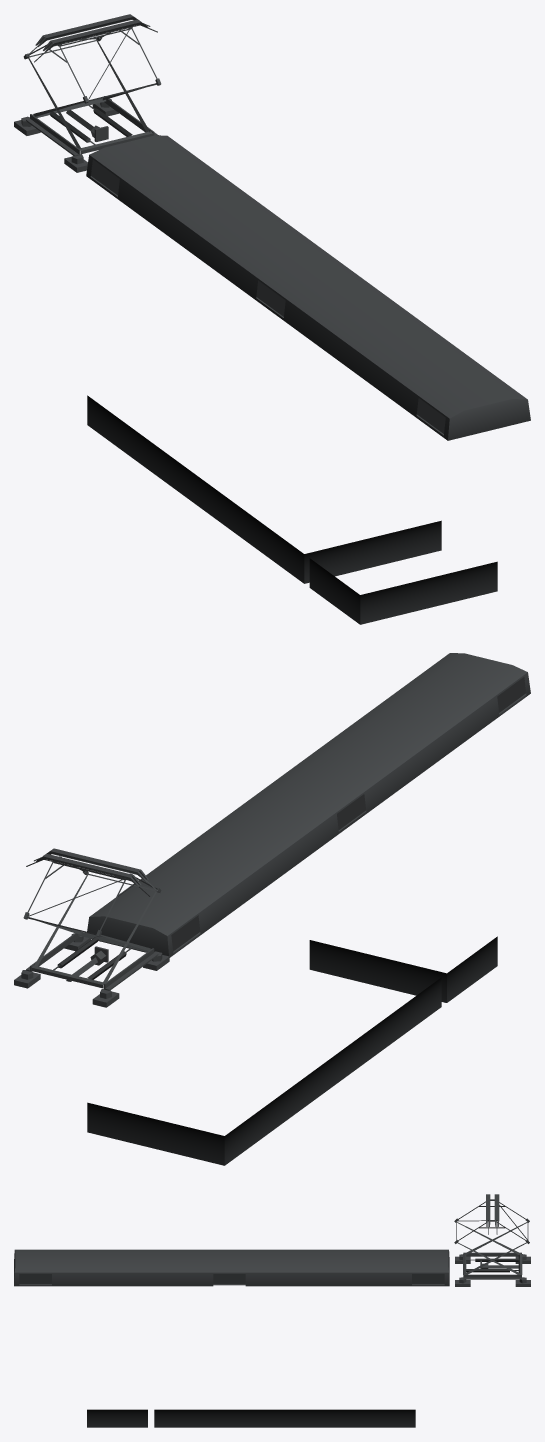
The model's file is UV_PANTA01.glb.
3 renders of one model, top to bottom at view 1: azimuth 30°, elevation 25°; view 2: azimuth 150°, elevation 25°; view 3: azimuth 270°, elevation 25°, orthographic. The views are drawn at different scales.
Visible parts, largest first — view 1: obj2; view 2: obj2; view 3: obj2.
Part boxes in pixels (x1,y1,x2,y2): obj2: (14, 14, 530, 624); obj2: (14, 653, 530, 1165); obj2: (14, 1194, 530, 1427).
Bounding box in the file's own units: 4.96 × 11.48 × 26.84.
1 material, 1 textured.
